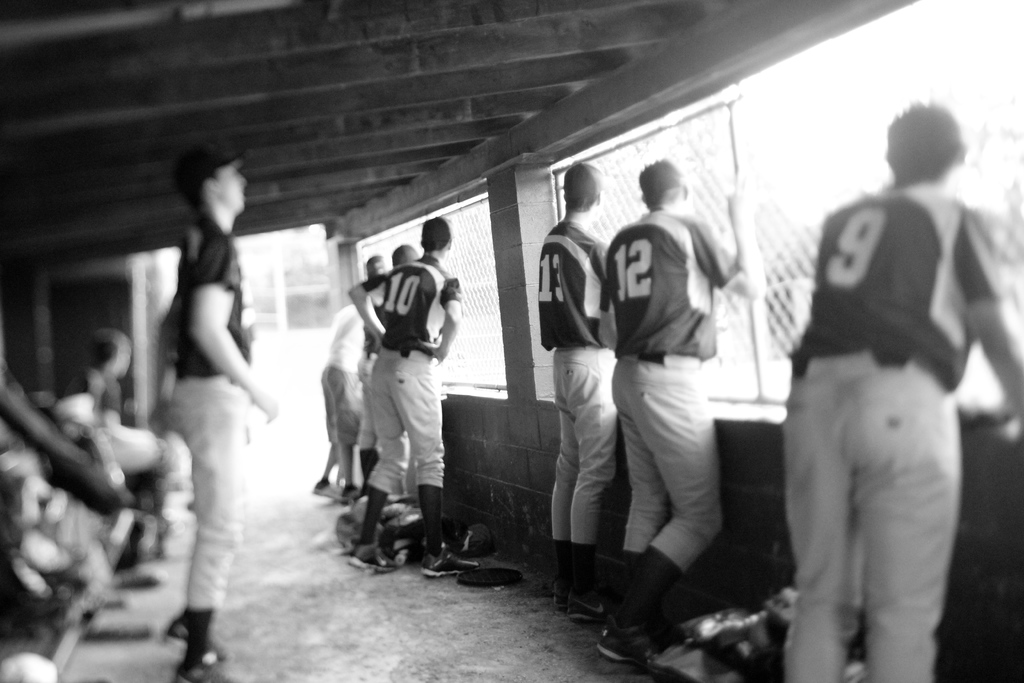Human_hand: (724, 167, 760, 224), (247, 387, 281, 424), (412, 340, 448, 363)
